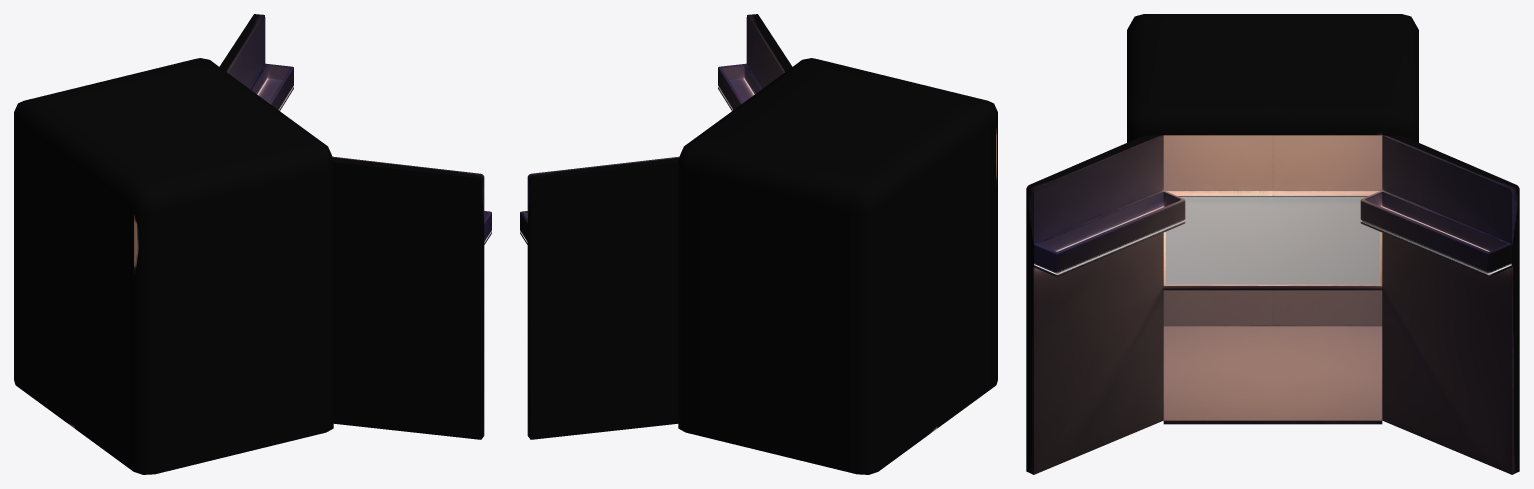
File: Fridge.fbx
The picture shows the model from 3 angles, left to right: view 1: azimuth 30°, elevation 25°; view 2: azimuth 150°, elevation 25°; view 3: azimuth 270°, elevation 25°; orthographic projection. The views are drawn at different scales.
Visible parts, largest first — view 1: Fridge; view 2: Fridge; view 3: Fridge, Plane.
Boxes of the visible parts, bbox=[...] form: Fridge: bbox=[14, 14, 491, 474]; Fridge: bbox=[520, 14, 997, 474]; Fridge: bbox=[1026, 14, 1519, 474]; Plane: bbox=[1166, 196, 1379, 284].
Size of the model in its own units: 592 by 412 by 480.
